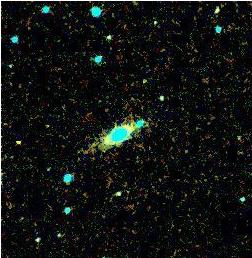star: (3, 127, 33, 157)
